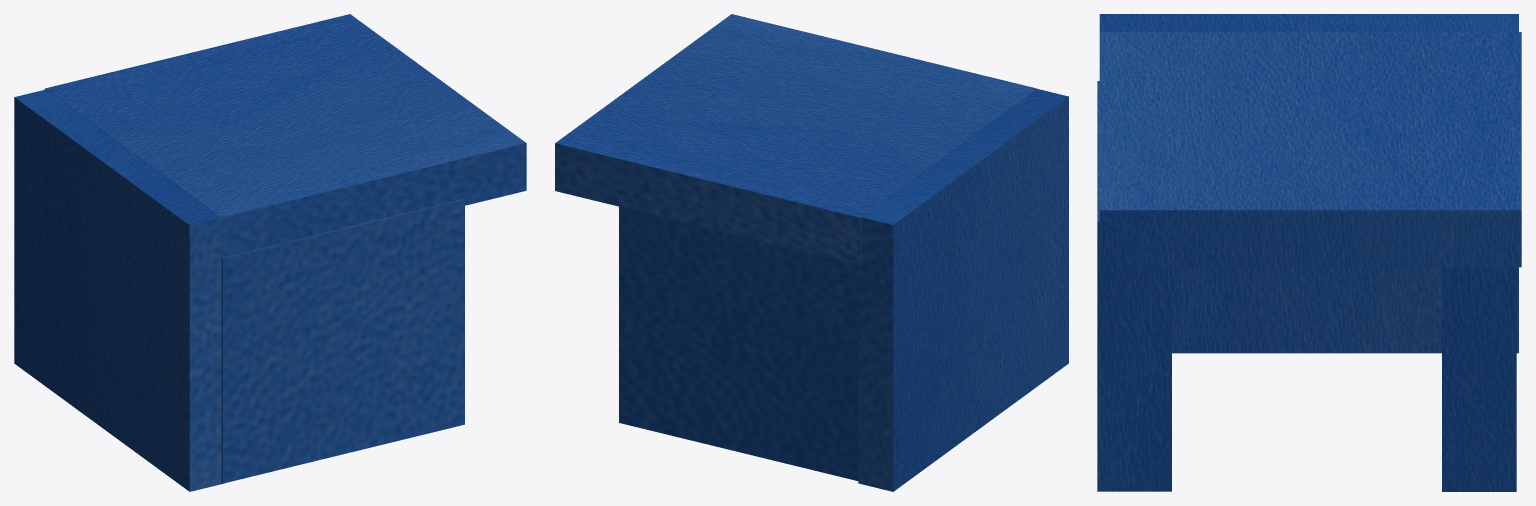
Rendered from blue.dae.
The picture shows the model from 3 angles, left to right: view 1: azimuth 30°, elevation 25°; view 2: azimuth 150°, elevation 25°; view 3: azimuth 270°, elevation 25°; orthographic projection. The views are drawn at different scales.
Parts seen in each view (by area): view 1: Cube_002; view 2: Cube_002; view 3: Cube_002.
Boxes of the visible parts, x1,y1,x2,y2 form: Cube_002: (14,14,526,491); Cube_002: (555,14,1068,491); Cube_002: (1097,14,1521,491).
Size of the model in its own units: 0.2594 by 0.2366 by 0.1964.
1 material, 1 textured.
